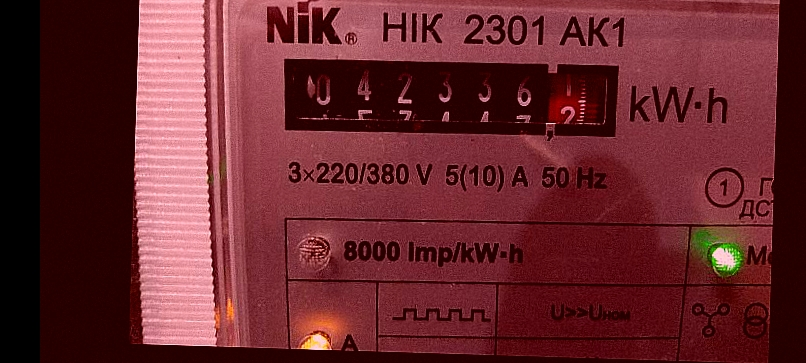0: (314, 70, 335, 106)
1: (562, 69, 576, 99)
2: (395, 69, 416, 106), (558, 103, 578, 125)
3: (436, 66, 456, 105), (474, 67, 495, 104)
4: (355, 65, 375, 102)
6: (513, 72, 536, 107)
screen: (275, 44, 629, 148)
